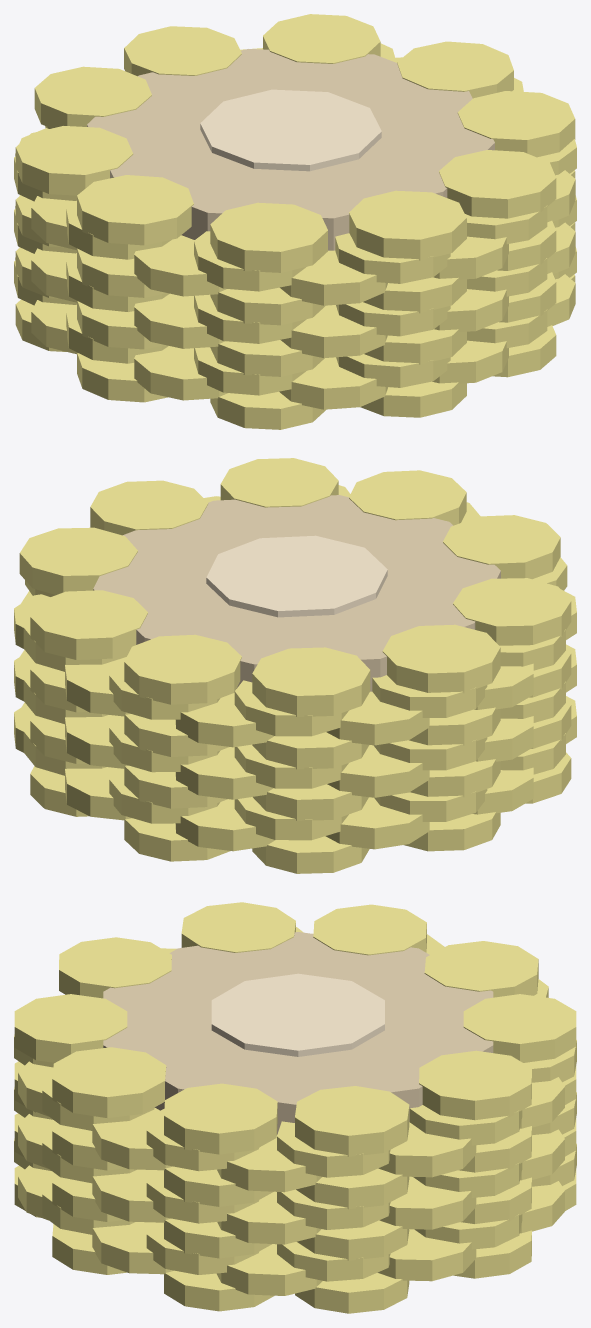
Rendered from food2.fbx.
The picture shows the model from 3 angles, top to bottom: view 1: azimuth 30°, elevation 25°; view 2: azimuth 150°, elevation 25°; view 3: azimuth 270°, elevation 25°; orthographic projection.
Parts seen in each view (by area): view 1: Cylinder_8; view 2: Cylinder_8; view 3: Cylinder_8.
Part boxes in pixels (x1=…): Cylinder_8: x1=14, y1=14, x2=576, y2=429; Cylinder_8: x1=14, y1=458, x2=576, y2=873; Cylinder_8: x1=14, y1=902, x2=576, y2=1313.
Size of the model in its own units: 4.61 by 1.72 by 4.61.
